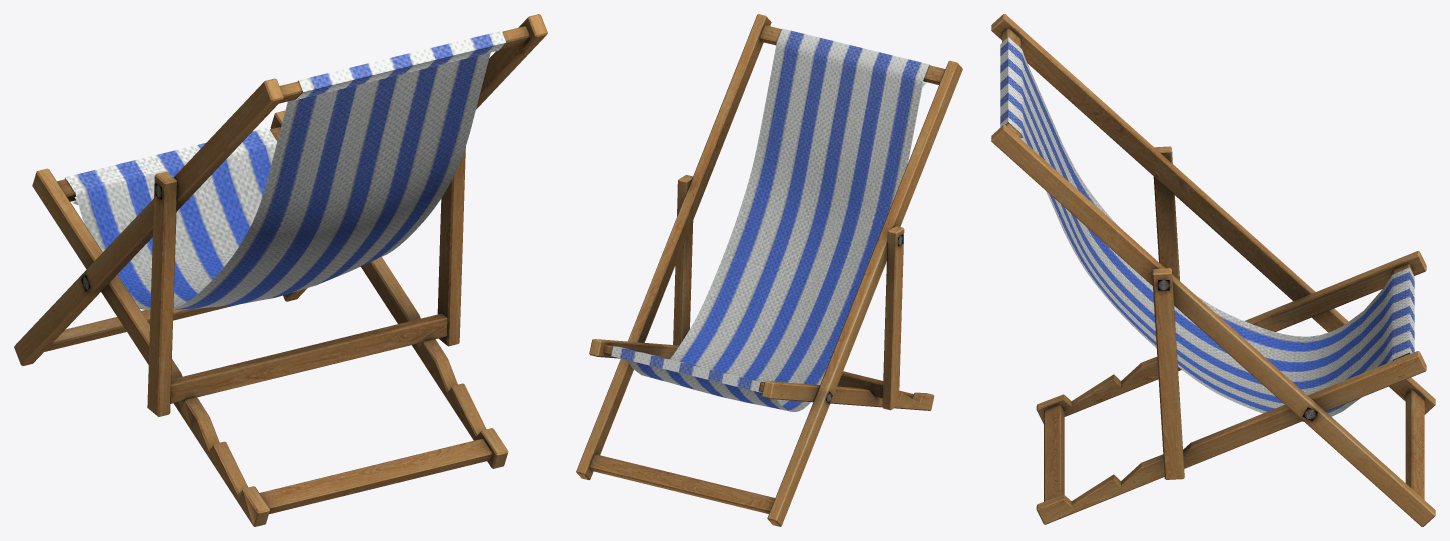
Rendered from DeckChairBlueFixed.fbx.
3 views of the same model, side by side, from view 1: azimuth 30°, elevation 25°; view 2: azimuth 150°, elevation 25°; view 3: azimuth 270°, elevation 25° (orthographic). The views are drawn at different scales.
Visible parts, largest first — view 1: chair; view 2: chair; view 3: chair.
Part boxes in pixels (<box>): chair: <box>14,14,547,526</box>; chair: <box>576,14,962,526</box>; chair: <box>991,14,1435,526</box>.
Bounding box in the file's own units: 34.58 × 50.73 × 50.9.
1 material, 1 textured.
